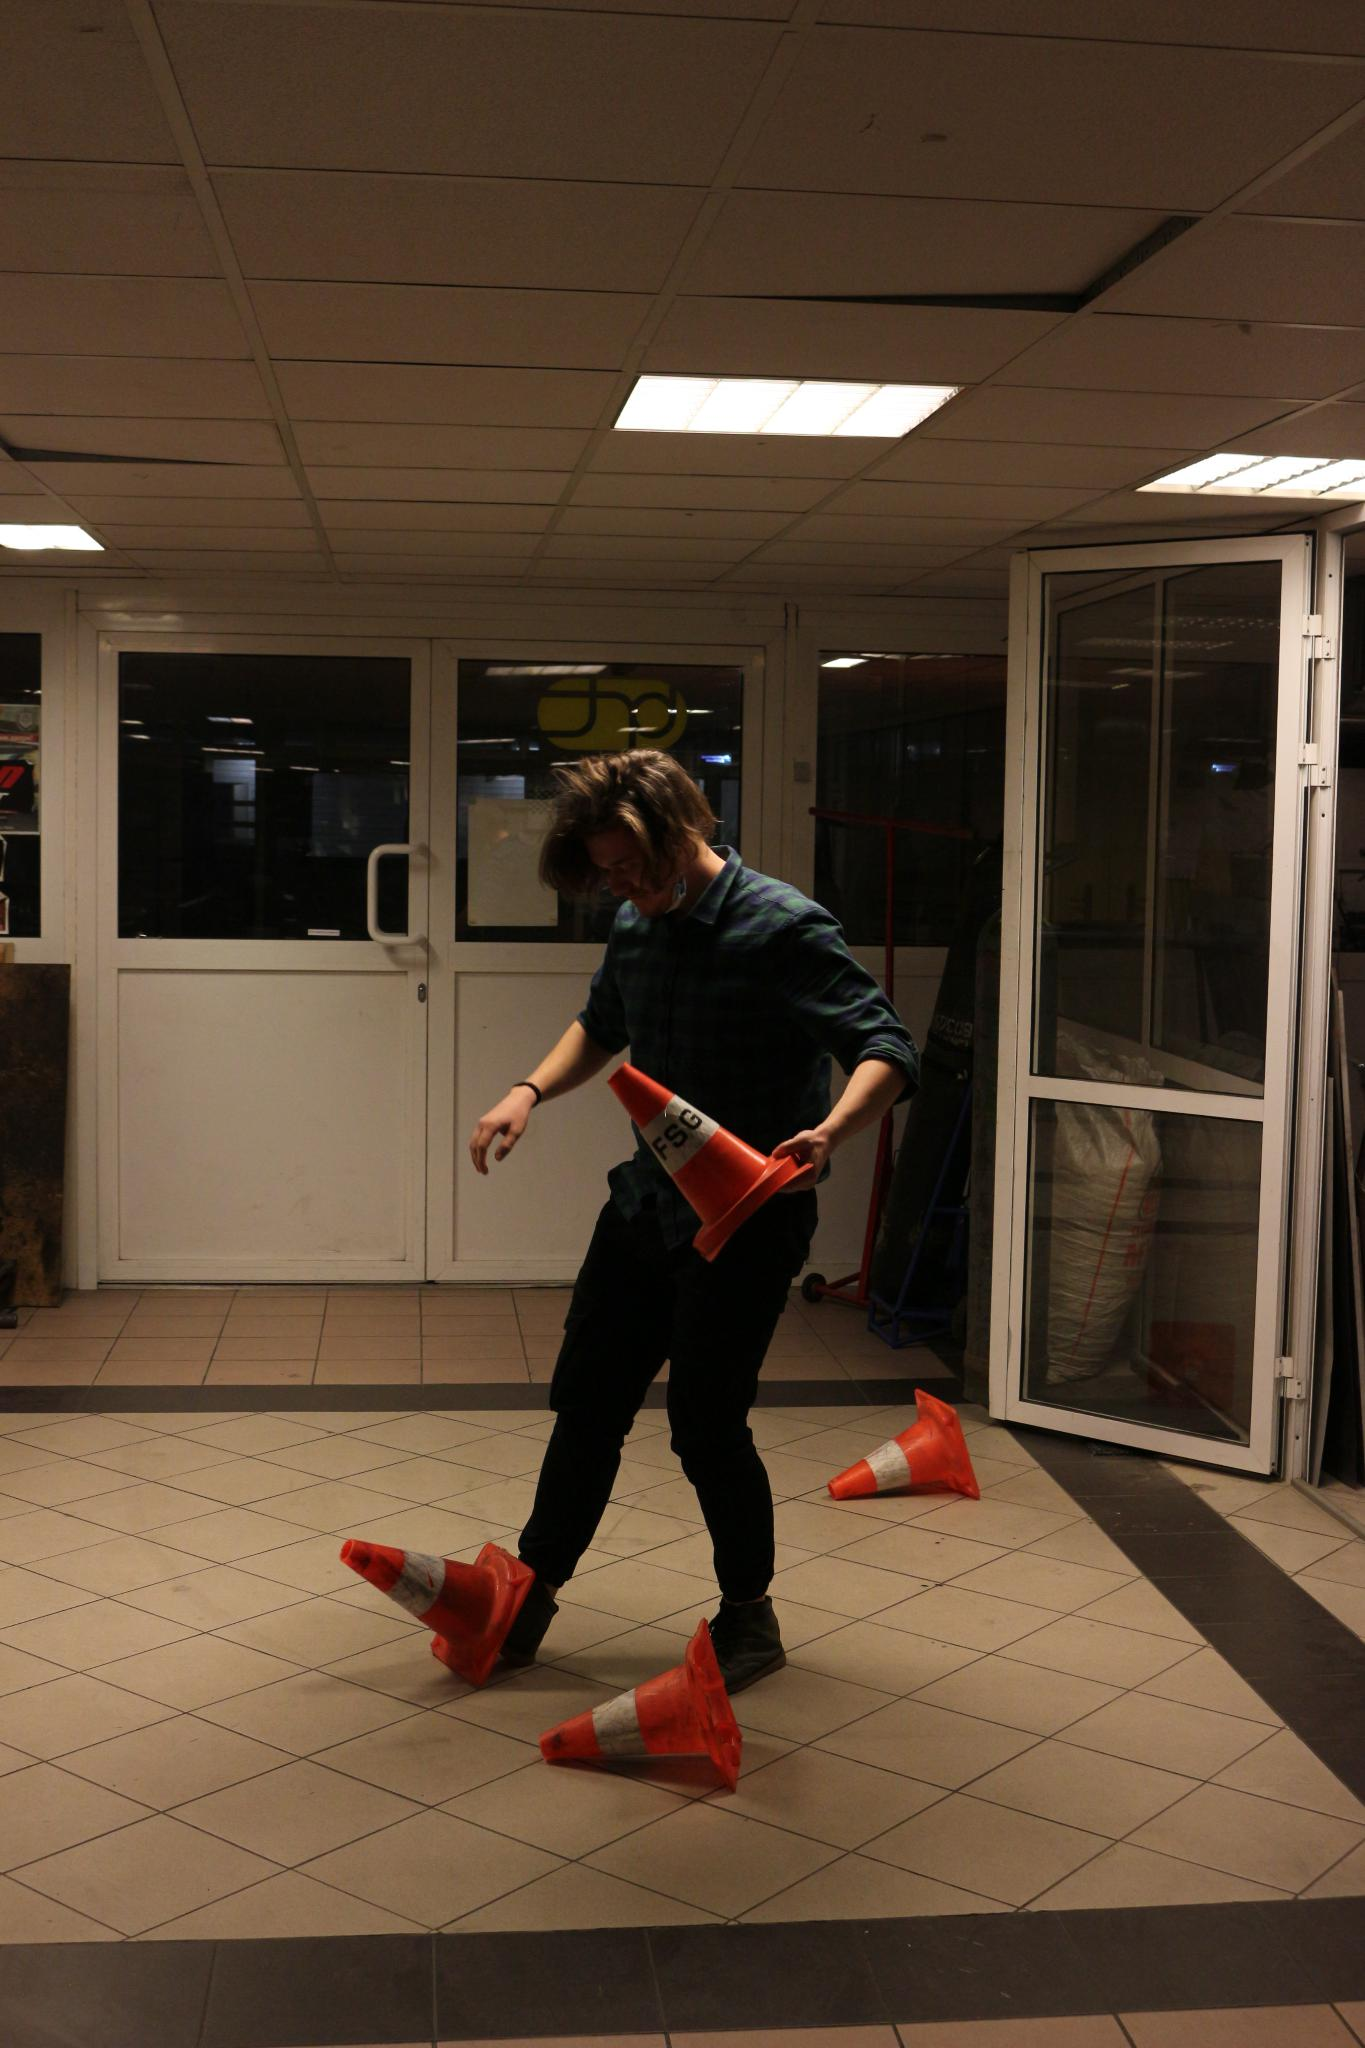Orange_Cone: (603, 1054, 806, 1262), (533, 1622, 757, 1782), (338, 1533, 544, 1693), (824, 1392, 981, 1517)
